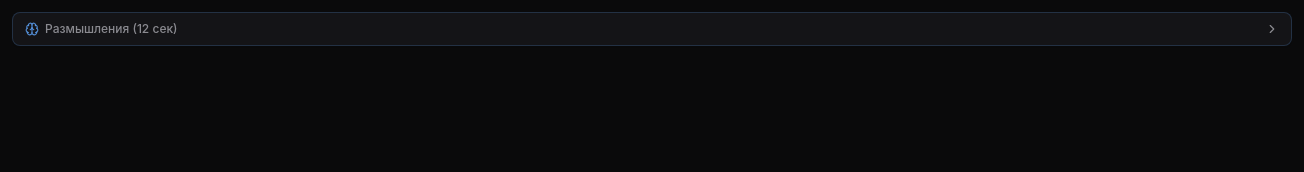
Test case: Frontend ThinkingBlock Adversarial Stress Tests › repeatedly toggles open and close with correct chevron orientation and labels
Check: the text "Размышления (12 сек)" is shown, box [45, 21, 178, 37]
Check: the text "Многошаговый план решения задачи" is not shown
Click the button titled "Показать размышления". click: (91, 28)
box: [13, 13, 1291, 45]
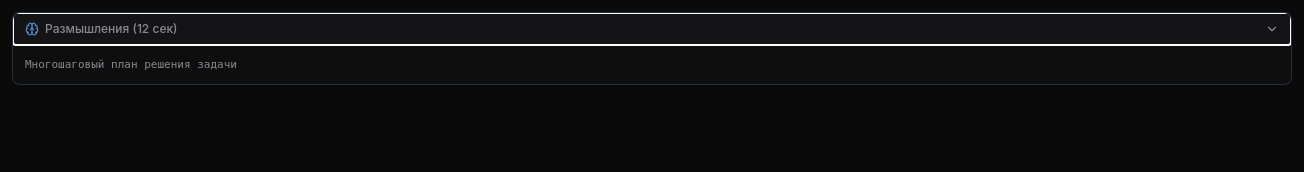
Check: the text "Многошаговый план решения задачи" is shown, box [13, 45, 1291, 84]
Click the button titled "Скрыть размышления". click: (91, 28)
box: [13, 13, 1291, 45]
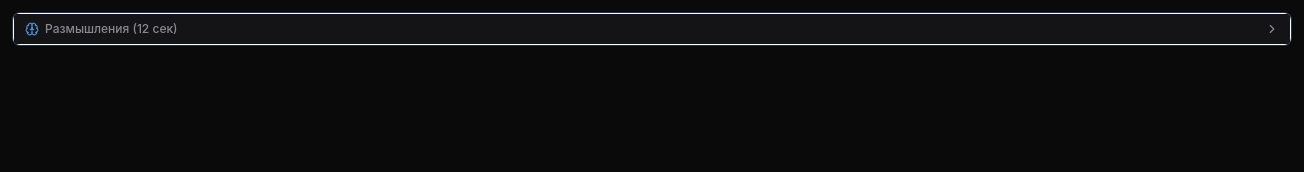
Check: the text "Многошаговый план решения задачи" is gone
Click the button titled "Показать размышления". click: (91, 28)
box: [13, 13, 1291, 45]
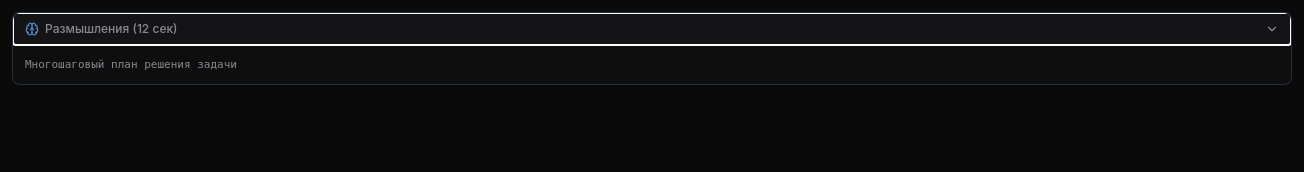
Check: the text "Многошаговый план решения задачи" is shown, box [13, 45, 1291, 84]
Click the button titled "Скрыть размышления". click: (91, 28)
box: [13, 13, 1291, 45]
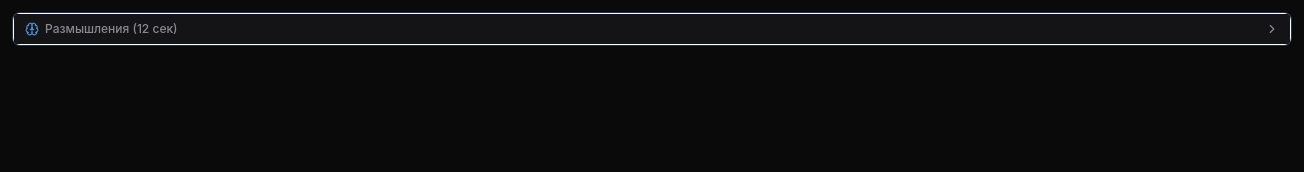
Check: the text "Многошаговый план решения задачи" is gone
Click the button titled "Показать размышления". click: (91, 28)
box: [13, 13, 1291, 45]
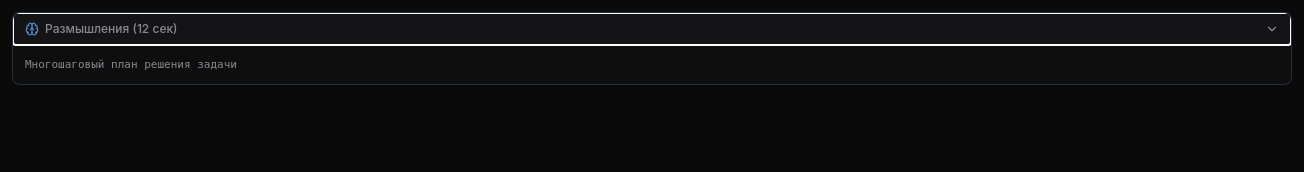
Check: the text "Многошаговый план решения задачи" is shown, box [13, 45, 1291, 84]
Click the button titled "Скрыть размышления". click: (91, 28)
box: [13, 13, 1291, 45]
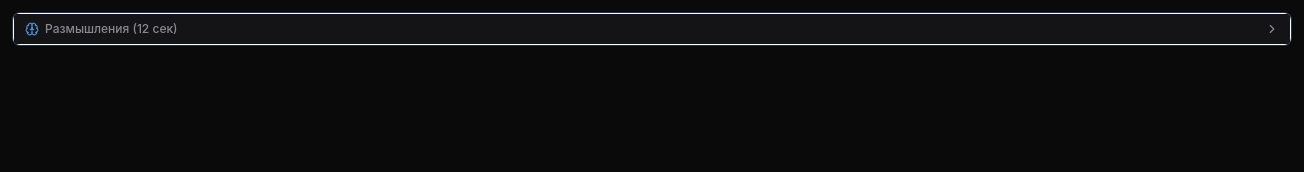
Check: the text "Многошаговый план решения задачи" is gone
